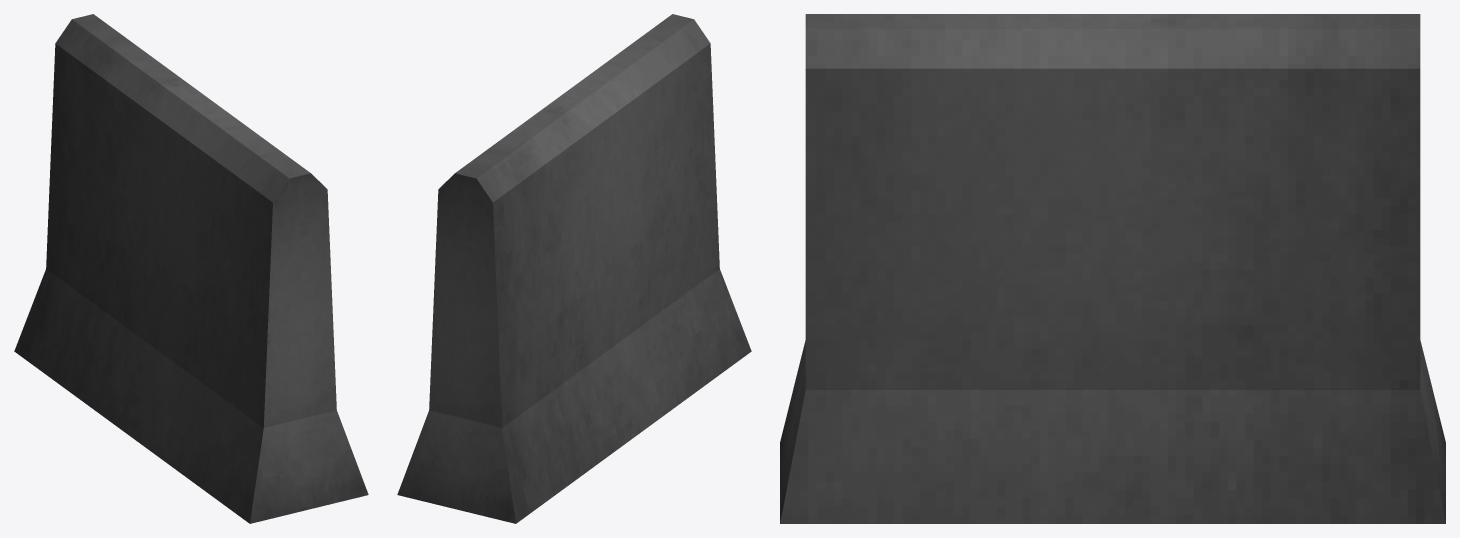
The model's file is wall.fbx.
3 renders of one model, left to right at view 1: azimuth 30°, elevation 25°; view 2: azimuth 150°, elevation 25°; view 3: azimuth 270°, elevation 25°, orthographic. The views are drawn at different scales.
Visible parts, largest first — view 1: wall; view 2: wall; view 3: wall.
Part boxes in pixels (x1,y1,x2,y2): wall: (14,14,368,523); wall: (397,14,751,523); wall: (780,14,1445,523).
Bounding box in the file's own units: 200 × 526 × 688.
